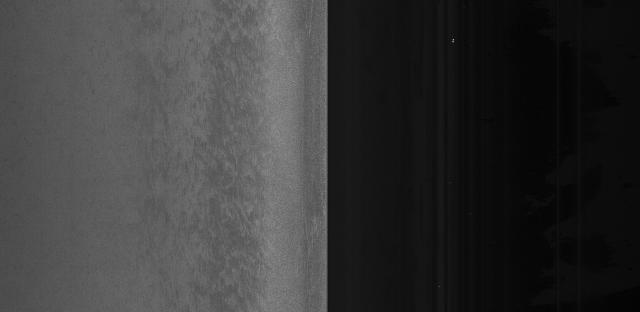silk_spot: (188, 57, 266, 232)
